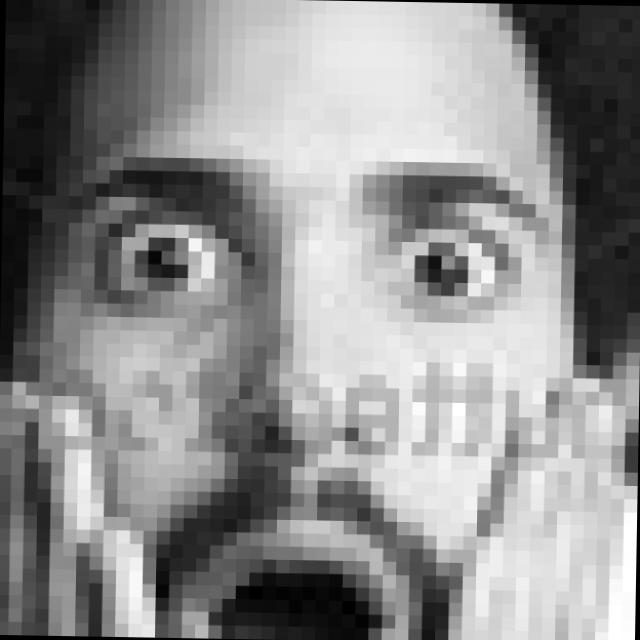surprise: (52, 140, 559, 640)
